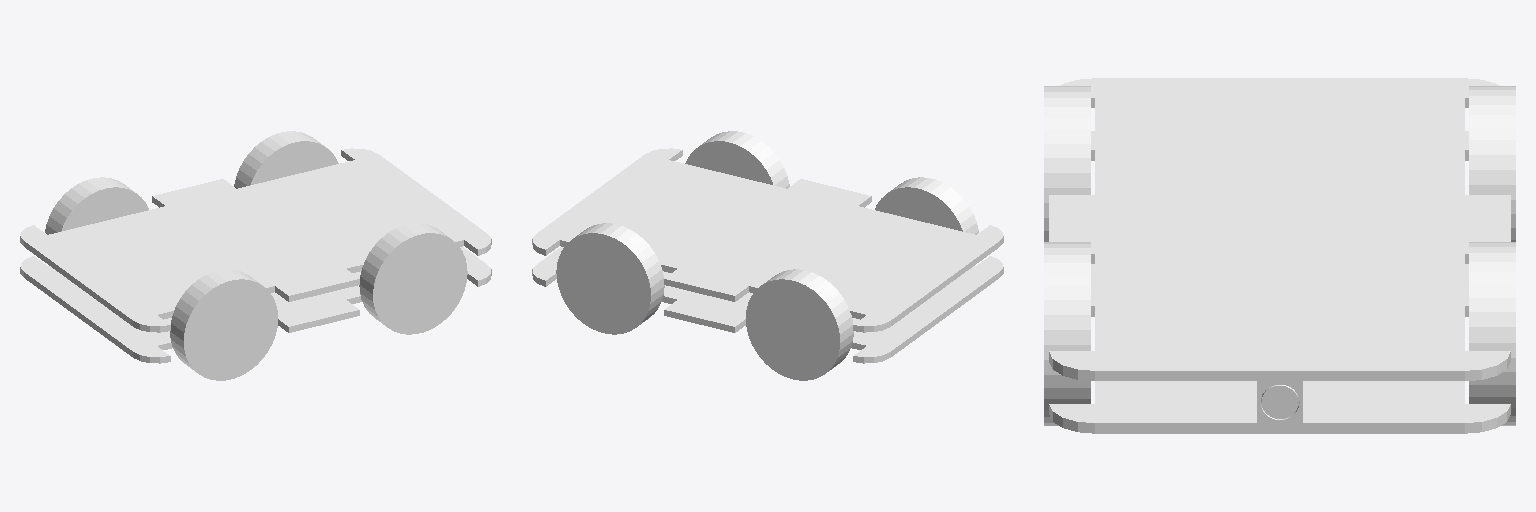
The robot description file, URDF, robot "slam_bot":
<?xml version="1.0" encoding="utf-8"?>
<!-- This URDF was automatically created by SolidWorks to URDF Exporter! Originally created by [author] ([email redacted]) 
     Commit Version: 1.5.1-0-g916b5db  Build Version: 1.5.7152.31018
     For more information, please see http://wiki.ros.org/sw_urdf_exporter -->
<robot
  name="slam_bot">
  <link
    name="base_link">
    <inertial>
      <origin
        xyz="0 0 0.04"
        rpy="0 0 0" />
      <mass
        value="0.59313" />
      <inertia
        ixx="0.0013364"
        ixy="4.824E-20"
        ixz="1.7974E-21"
        iyy="0.0038545"
        iyz="3.8567E-21"
        izz="0.0051839" />
    </inertial>
    <visual>
      <origin
        xyz="0 0 0"
        rpy="0 0 0" />
      <geometry>
        <mesh
          filename="package://slam_bot/meshes/base_link.STL" />
      </geometry>
      <material
        name="">
        <color
          rgba="1 1 1 1" />
      </material>
    </visual>
    <collision>
      <origin
        xyz="0 0 0"
        rpy="0 0 0" />
      <geometry>
        <mesh
          filename="package://slam_bot/meshes/base_link.STL" />
      </geometry>
    </collision>
  </link>
  <link
    name="link_wheel_FL">
    <inertial>
      <origin
        xyz="0 0.012 0"
        rpy="0 0 0" />
      <mass
        value="0.10053" />
      <inertia
        ixx="4.3563E-05"
        ixy="1.1294E-21"
        ixz="-1.6941E-21"
        iyy="8.0425E-05"
        iyz="-7.0586E-23"
        izz="4.3563E-05" />
    </inertial>
    <visual>
      <origin
        xyz="0 0 0"
        rpy="0 0 0" />
      <geometry>
        <mesh
          filename="package://slam_bot/meshes/link_wheel_FL.STL" />
      </geometry>
      <material
        name="">
        <color
          rgba="1 1 1 1" />
      </material>
    </visual>
    <collision>
      <origin
        xyz="0 0 0"
        rpy="0 0 0" />
      <geometry>
        <mesh
          filename="package://slam_bot/meshes/link_wheel_FL.STL" />
      </geometry>
    </collision>
  </link>
  <joint
    name="joint_wheel_FL"
    type="continuous">
    <origin
      xyz="0.08 0.08 0.04"
      rpy="0 0 0" />
    <parent
      link="base_link" />
    <child
      link="link_wheel_FL" />
    <axis
      xyz="0 -1 0" />
  </joint>
  <link
    name="link_wheel_FR">
    <inertial>
      <origin
        xyz="0 -0.012 0"
        rpy="0 0 0" />
      <mass
        value="0.10053" />
      <inertia
        ixx="4.3563E-05"
        ixy="-7.2158E-38"
        ixz="-5.294E-23"
        iyy="8.0425E-05"
        iyz="7.9908E-38"
        izz="4.3563E-05" />
    </inertial>
    <visual>
      <origin
        xyz="0 0 0"
        rpy="0 0 0" />
      <geometry>
        <mesh
          filename="package://slam_bot/meshes/link_wheel_FR.STL" />
      </geometry>
      <material
        name="">
        <color
          rgba="1 1 1 1" />
      </material>
    </visual>
    <collision>
      <origin
        xyz="0 0 0"
        rpy="0 0 0" />
      <geometry>
        <mesh
          filename="package://slam_bot/meshes/link_wheel_FR.STL" />
      </geometry>
    </collision>
  </link>
  <joint
    name="joint_wheel_FR"
    type="continuous">
    <origin
      xyz="0.0800000000000013 -0.0799999999999997 0.04"
      rpy="0 0 0" />
    <parent
      link="base_link" />
    <child
      link="link_wheel_FR" />
    <axis
      xyz="0 -1 0" />
  </joint>
  <link
    name="link_wheel_BL">
    <inertial>
      <origin
        xyz="0 0.012 0"
        rpy="0 0 0" />
      <mass
        value="0.10053" />
      <inertia
        ixx="4.3563E-05"
        ixy="5.6469E-22"
        ixz="5.6469E-22"
        iyy="8.0425E-05"
        iyz="-4.2977E-37"
        izz="4.3563E-05" />
    </inertial>
    <visual>
      <origin
        xyz="0 0 0"
        rpy="0 0 0" />
      <geometry>
        <mesh
          filename="package://slam_bot/meshes/link_wheel_BL.STL" />
      </geometry>
      <material
        name="">
        <color
          rgba="1 1 1 1" />
      </material>
    </visual>
    <collision>
      <origin
        xyz="0 0 0"
        rpy="0 0 0" />
      <geometry>
        <mesh
          filename="package://slam_bot/meshes/link_wheel_BL.STL" />
      </geometry>
    </collision>
  </link>
  <joint
    name="joint_wheel_BL"
    type="continuous">
    <origin
      xyz="-0.08 0.08 0.04"
      rpy="0 0 0" />
    <parent
      link="base_link" />
    <child
      link="link_wheel_BL" />
    <axis
      xyz="0 -1 0" />
  </joint>
  <link
    name="link_wheel_BR">
    <inertial>
      <origin
        xyz="0 -0.012 0"
        rpy="0 0 0" />
      <mass
        value="0.10053" />
      <inertia
        ixx="4.3563E-05"
        ixy="-7.3468E-38"
        ixz="-6.1763E-23"
        iyy="8.0425E-05"
        iyz="-4.5918E-39"
        izz="4.3563E-05" />
    </inertial>
    <visual>
      <origin
        xyz="0 0 0"
        rpy="0 0 0" />
      <geometry>
        <mesh
          filename="package://slam_bot/meshes/link_wheel_BR.STL" />
      </geometry>
      <material
        name="">
        <color
          rgba="1 1 1 1" />
      </material>
    </visual>
    <collision>
      <origin
        xyz="0 0 0"
        rpy="0 0 0" />
      <geometry>
        <mesh
          filename="package://slam_bot/meshes/link_wheel_BR.STL" />
      </geometry>
    </collision>
  </link>
  <joint
    name="joint_wheel_BR"
    type="continuous">
    <origin
      xyz="-0.08 -0.08 0.04"
      rpy="0 0 0" />
    <parent
      link="base_link" />
    <child
      link="link_wheel_BR" />
    <axis
      xyz="0 -1 0" />
  </joint>
  <link
    name="camera">
    <inertial>
      <origin
        xyz="-0.0050423 0 0.01"
        rpy="0 0 0" />
      <mass
        value="0.003959" />
      <inertia
        ixx="2.6388E-07"
        ixy="1.0006E-21"
        ixz="6.9411E-22"
        iyy="1.6457E-07"
        iyz="-8.1106E-24"
        izz="1.6457E-07" />
    </inertial>
    <visual>
      <origin
        xyz="0 0 0"
        rpy="0 0 0" />
      <geometry>
        <mesh
          filename="package://slam_bot/meshes/camera.STL" />
      </geometry>
      <material
        name="">
        <color
          rgba="1 1 1 1" />
      </material>
    </visual>
    <collision>
      <origin
        xyz="0 0 0"
        rpy="0 0 0" />
      <geometry>
        <mesh
          filename="package://slam_bot/meshes/camera.STL" />
      </geometry>
    </collision>
  </link>
  <joint
    name="joint_camera"
    type="fixed">
    <origin
      xyz="0.15 0 0.03"
      rpy="0 0 0" />
    <parent
      link="base_link" />
    <child
      link="camera" />
    <axis
      xyz="0 0 0" />
  </joint>
</robot>

--- What the picture shows (computed from the rendered views, not written in the file) ---
The picture shows the robot from 3 angles, left to right: view 1: azimuth 30°, elevation 25°; view 2: azimuth 150°, elevation 25°; view 3: azimuth 270°, elevation 25°; orthographic projection.
Model slam_bot with 6 links and 5 joints (4 continuous, 1 fixed), rooted at base_link, posed all joints at 0.
Links seen in each view (by area): view 1: base_link, link_wheel_FR, link_wheel_BR, link_wheel_FL, link_wheel_BL; view 2: base_link, link_wheel_FL, link_wheel_BL, link_wheel_FR, link_wheel_BR; view 3: base_link, link_wheel_FL, link_wheel_FR, link_wheel_BL, link_wheel_BR, camera.
Boxes of the visible links, left/top/right/bottom form: base_link: left=20, top=148, right=491, bottom=363; link_wheel_FR: left=359, top=223, right=467, bottom=334; link_wheel_BR: left=170, top=269, right=277, bottom=380; link_wheel_FL: left=234, top=131, right=338, bottom=188; link_wheel_BL: left=45, top=177, right=148, bottom=234; base_link: left=532, top=148, right=1003, bottom=363; link_wheel_FL: left=556, top=223, right=664, bottom=334; link_wheel_BL: left=746, top=269, right=853, bottom=380; link_wheel_FR: left=685, top=131, right=789, bottom=188; link_wheel_BR: left=875, top=177, right=978, bottom=234; base_link: left=1049, top=78, right=1510, bottom=433; link_wheel_FL: left=1469, top=242, right=1515, bottom=425; link_wheel_FR: left=1044, top=242, right=1090, bottom=425; link_wheel_BL: left=1469, top=86, right=1515, bottom=241; link_wheel_BR: left=1044, top=86, right=1090, bottom=241; camera: left=1257, top=381, right=1302, bottom=422.
Size in the robot's own frame: 0.3 by 0.204 by 0.0799 metres.
6 mesh visuals loaded from 6 distinct referenced files (6 binary STL).